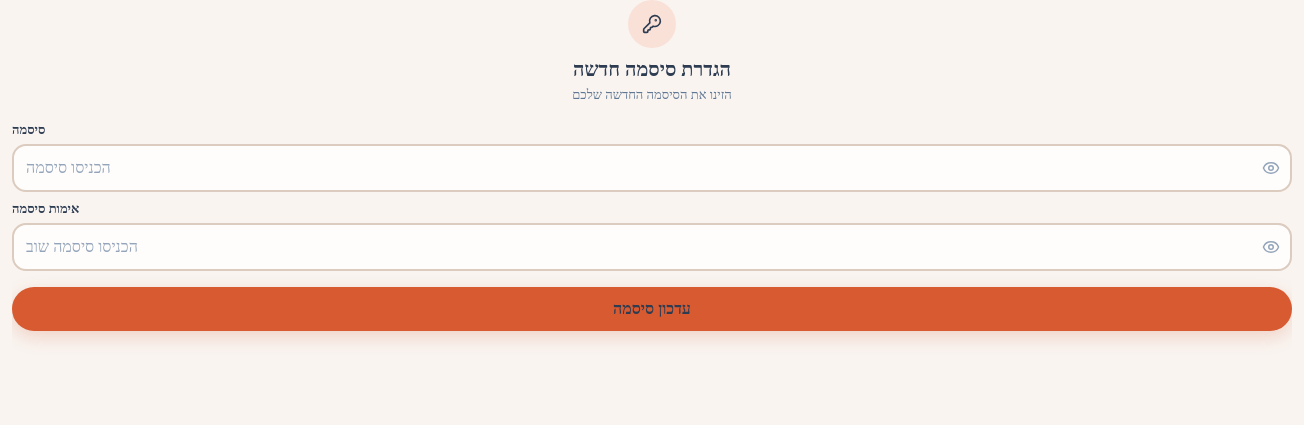
Test: UpdatePasswordForm › shows the translated generic error for other server errors
Step 1. Type "SomeNewPassword123" into the password field with placeholder "הכניסו סיסמה" → x=652, y=168, box [12,144,1292,192]
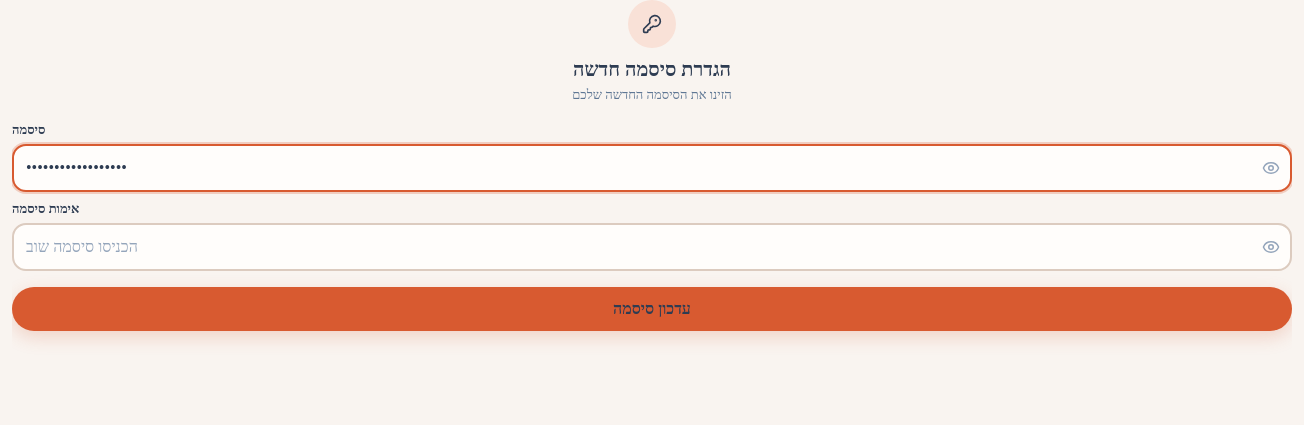
Step 2. Type "SomeNewPassword123" into the password field with placeholder "הכניסו סיסמה שוב" → x=652, y=246, box [12,222,1292,270]
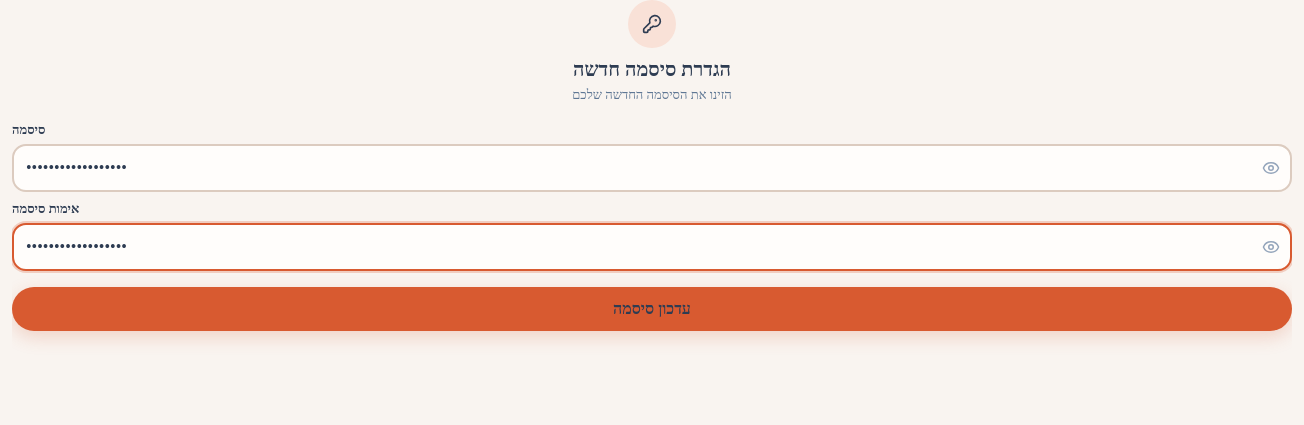
Step 3. Click the button "עדכון סיסמה" → x=652, y=308, box [12,286,1292,330]
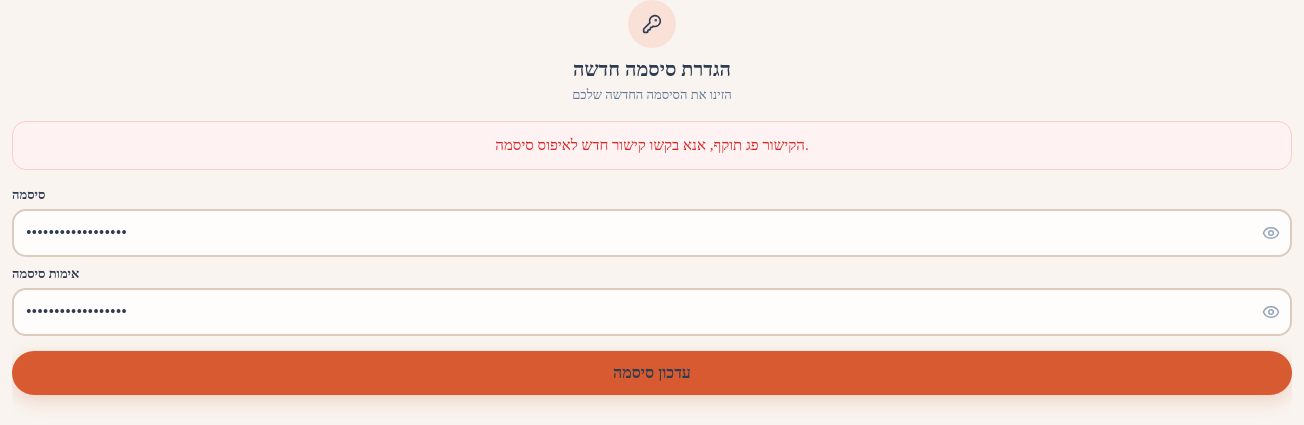
Now the text "הקישור פג תוקף, אנא בקשו קישור חדש לאיפוס סיסמה." is shown, box [495,137,809,153]
